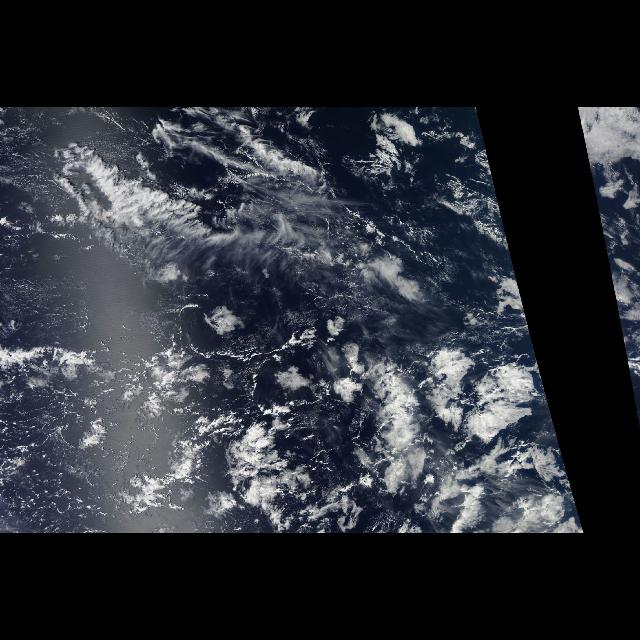Flower: (170, 340, 576, 532)
Gravel: (2, 308, 304, 534)
Sugar: (0, 108, 92, 336)
